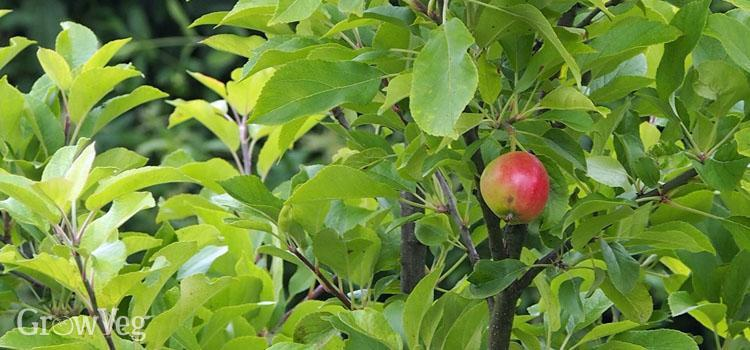apple: (478, 149, 553, 228)
